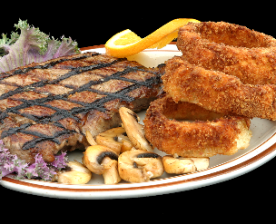soup: (143, 21, 276, 157)
